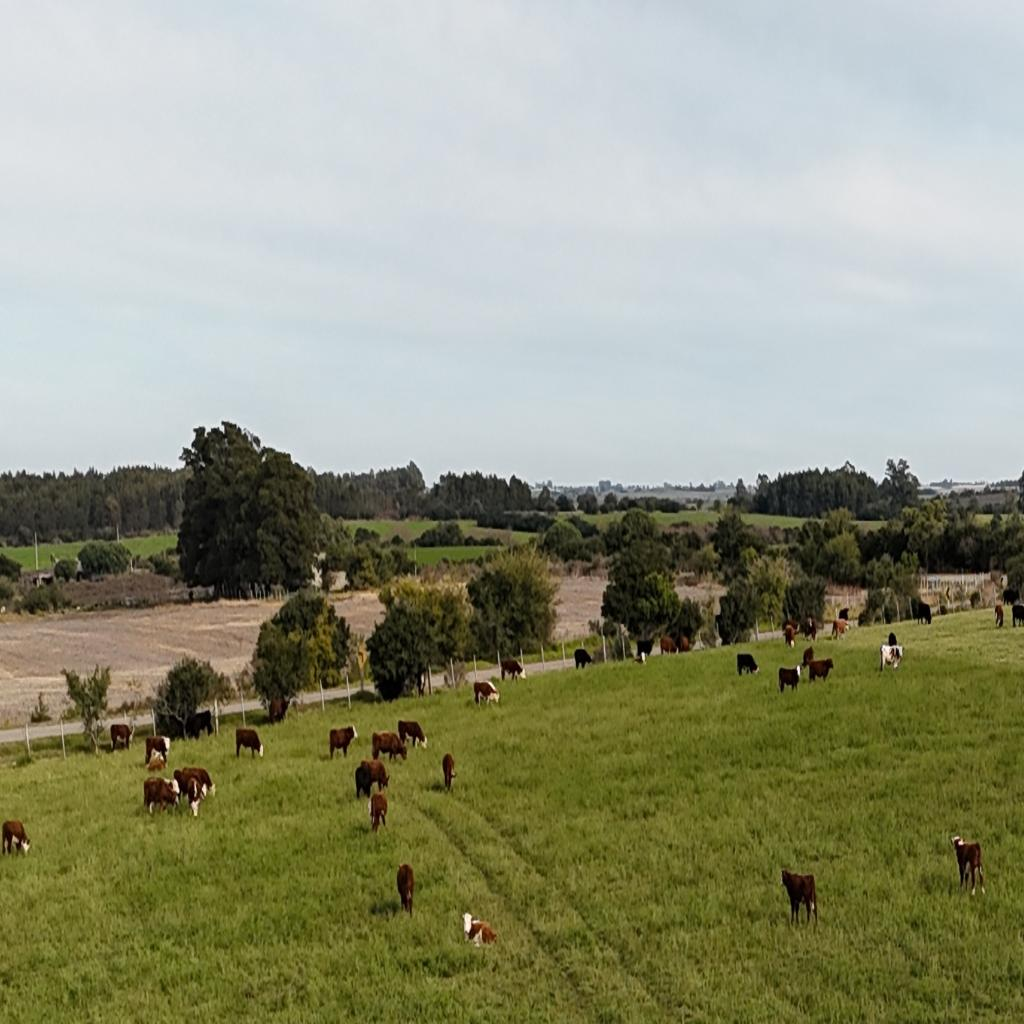cow: (780, 870, 818, 930), (951, 836, 986, 898), (142, 776, 182, 816), (462, 910, 500, 946), (356, 758, 389, 798), (2, 818, 32, 857), (183, 766, 216, 798), (328, 725, 358, 760), (397, 862, 415, 918), (397, 720, 428, 750), (236, 728, 264, 759), (880, 642, 905, 674), (369, 793, 388, 835), (186, 710, 212, 740), (145, 735, 170, 766), (473, 680, 499, 708), (806, 658, 834, 683), (110, 723, 134, 752), (778, 665, 802, 694), (187, 777, 201, 819), (442, 752, 456, 794), (268, 697, 289, 725), (500, 658, 524, 682), (912, 598, 932, 626), (736, 653, 759, 677), (783, 621, 798, 649), (635, 639, 653, 661), (574, 648, 592, 670), (831, 620, 848, 640), (461, 912, 473, 939), (804, 618, 817, 642), (1002, 590, 1019, 607), (802, 646, 815, 667), (995, 604, 1005, 628), (677, 636, 690, 654), (371, 733, 380, 759), (1016, 601, 1024, 627), (417, 674, 425, 698), (1, 835, 10, 856), (888, 632, 899, 648), (469, 690, 478, 706), (839, 607, 849, 620)
